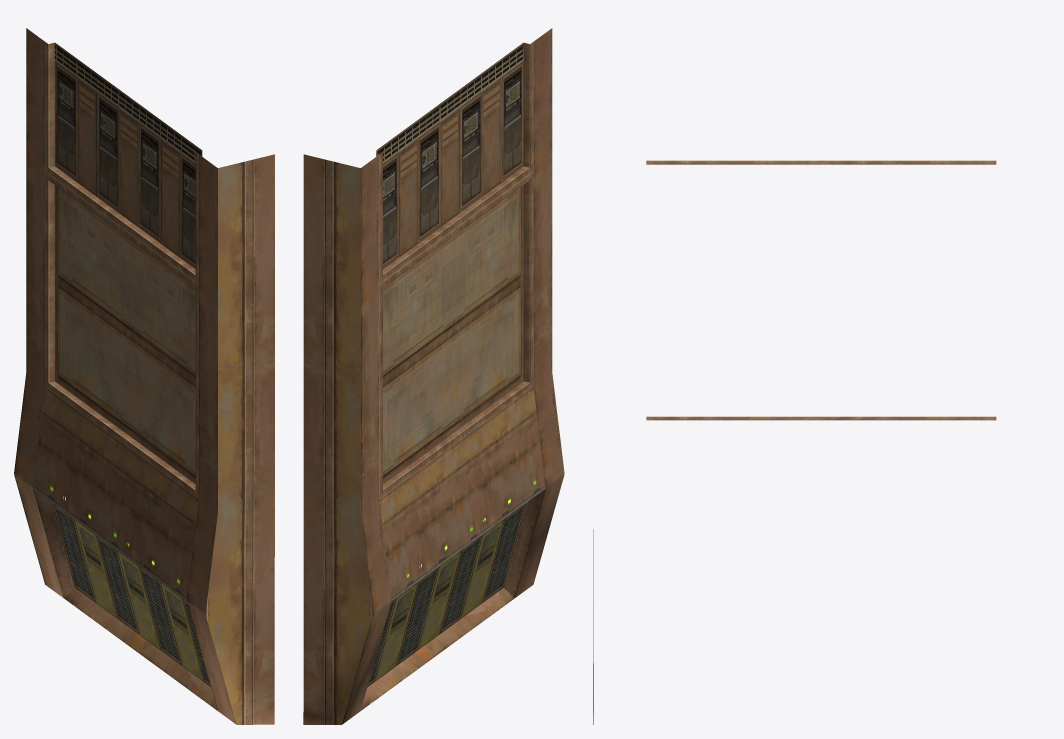
File: all_arch_und_factory_interior_wall_detail.glb
3 renders of one model, left to right at view 1: azimuth 30°, elevation 25°; view 2: azimuth 150°, elevation 25°; view 3: azimuth 270°, elevation 25°, orthographic. The views are drawn at different scales.
Parts seen in each view (by area): view 1: all_arch_und_factory_interior_wall_detail; view 2: all_arch_und_factory_interior_wall_detail; view 3: all_arch_und_factory_interior_wall_detail.
Boxes of the visible parts, <box> form: all_arch_und_factory_interior_wall_detail: <box>14,28,274,724</box>; all_arch_und_factory_interior_wall_detail: <box>303,28,564,724</box>; all_arch_und_factory_interior_wall_detail: <box>593,160,996,724</box>.
Bounding box in the file's own units: 0.2472 × 1.95 × 1.19.
Materials: 4 (4 with a texture image).
